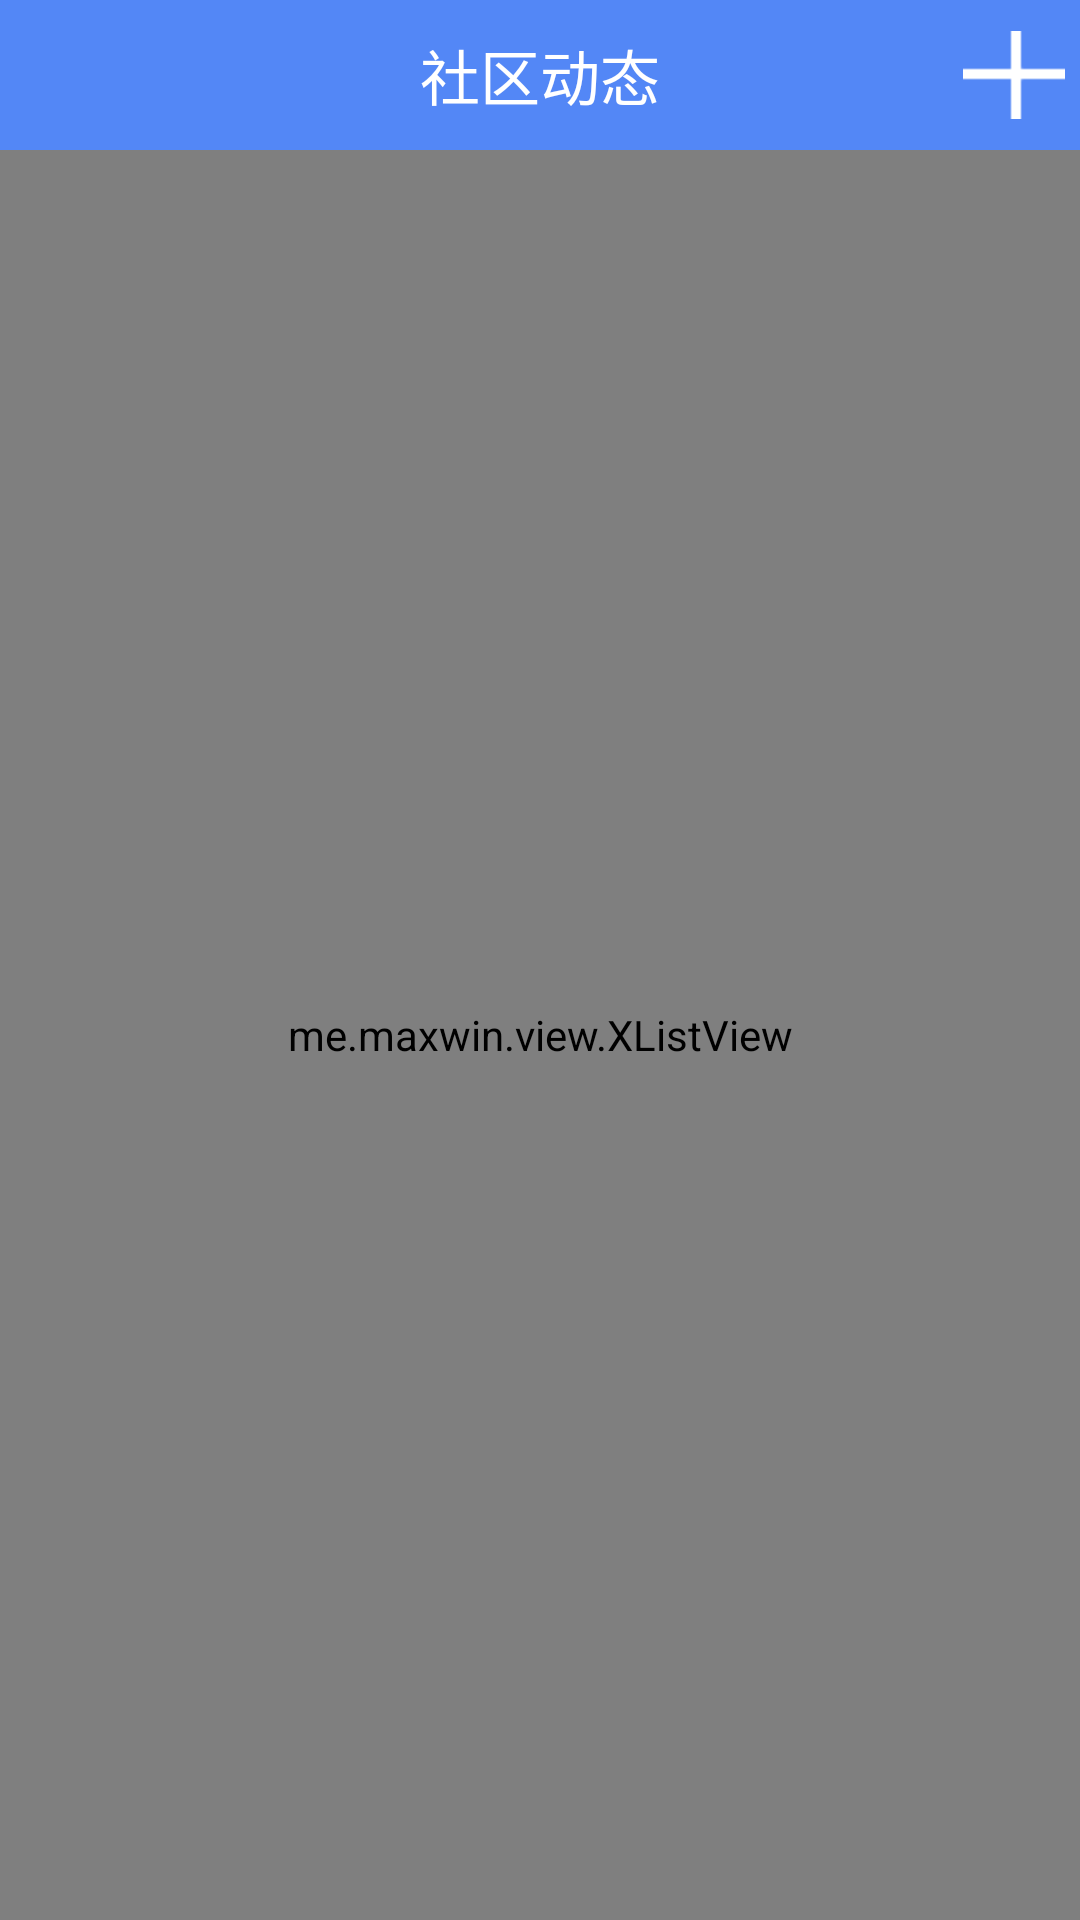

Where to tap for icons on this 1080 x 1920 app screen, as (x,y):
add dynimic: (1014,75)
